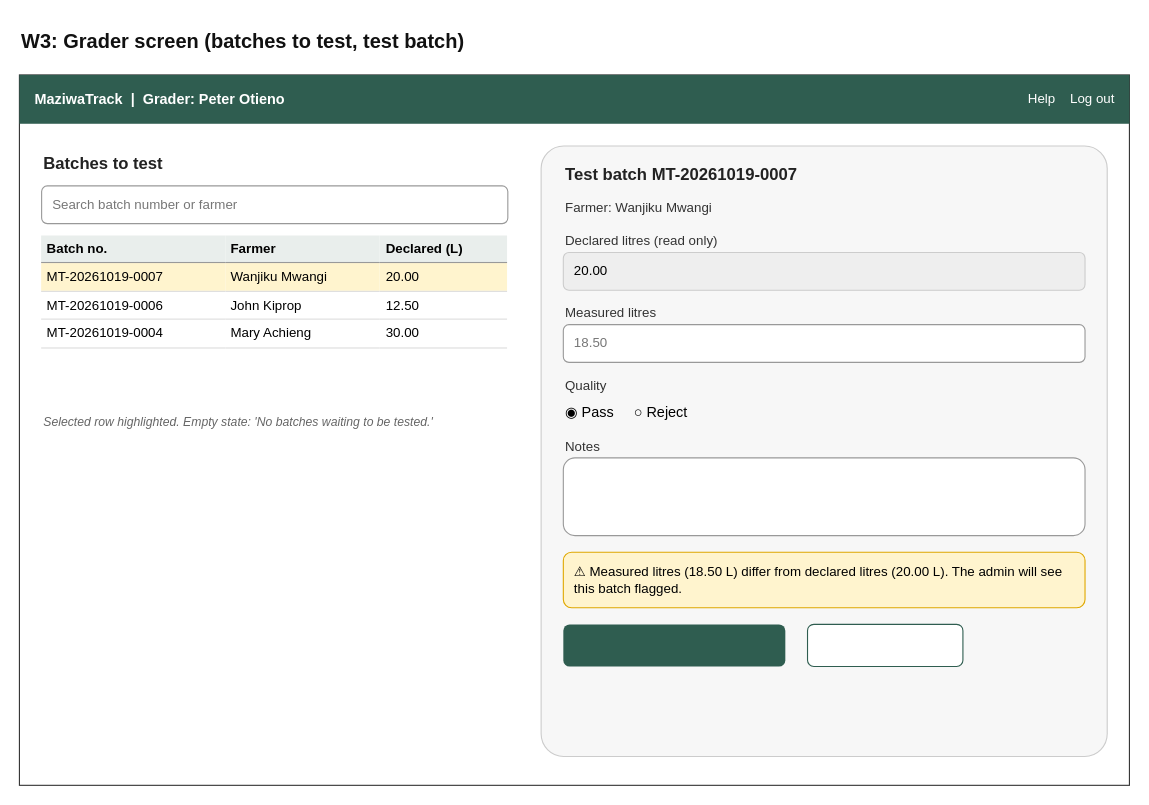
The diagram is 1149 pixels wide and 805 high, and some of its shapes have lost their labels. Here are the shapes that lost their labels. From the top down, the box of each, then its label:
(562, 457, 1085, 536): Optional notes about quality
(563, 624, 785, 666): Save result
(806, 623, 963, 667): Cancel
